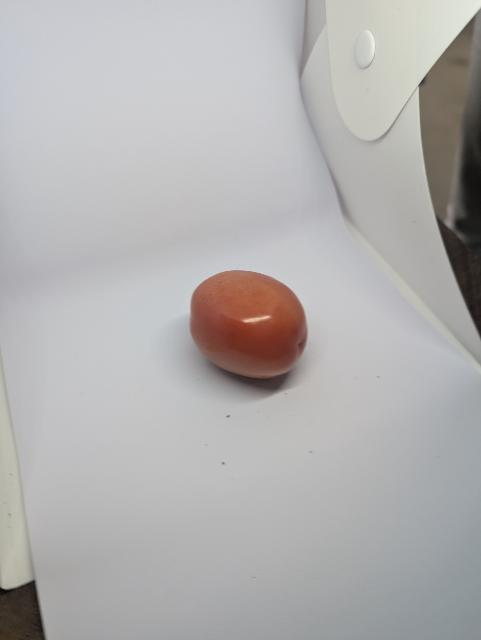red: (188, 268, 313, 383)
